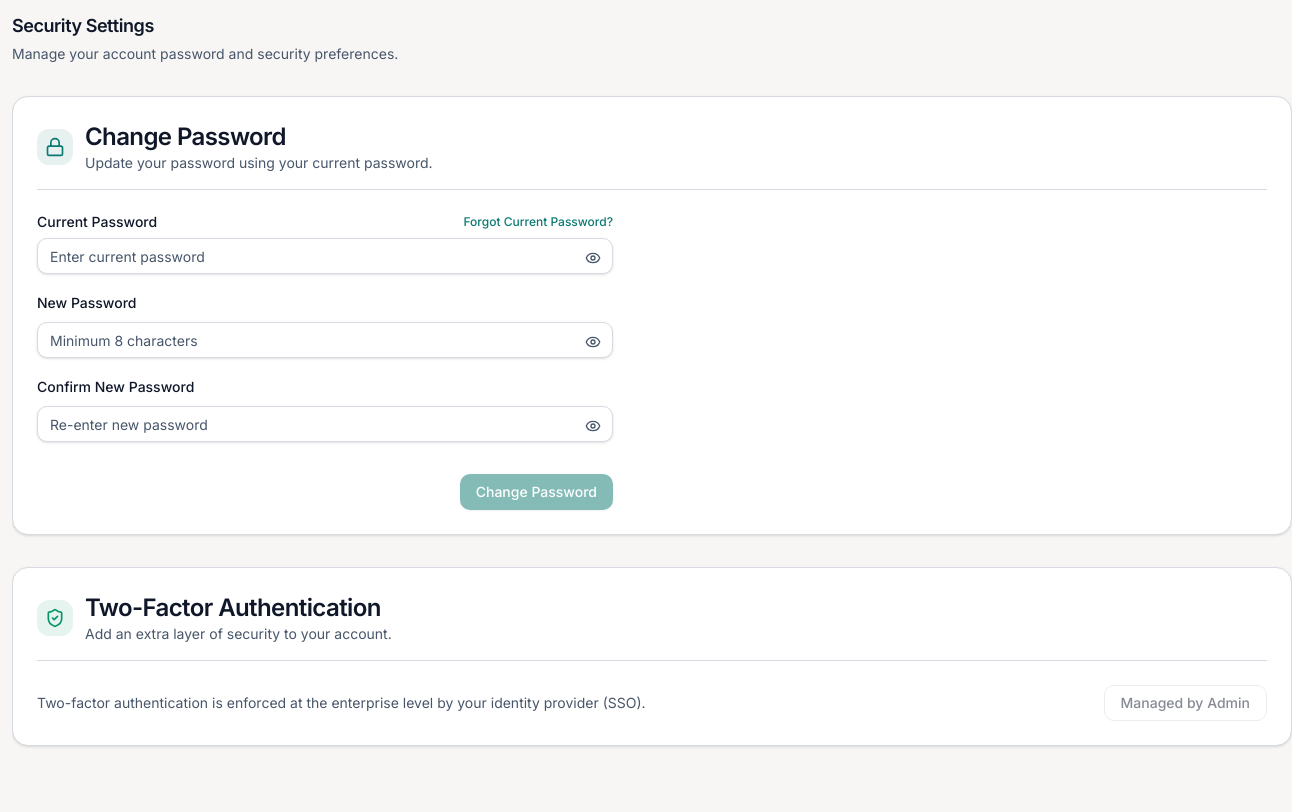
Test case: Security Settings: Dual-Path In-Place Password Change (Phase 4) › Path B — User Does Not Know Current Password › Can switch back from Path B to Path A in place
Click the button "Forgot Current Password?" at (538, 222), box [463,214,613,230]
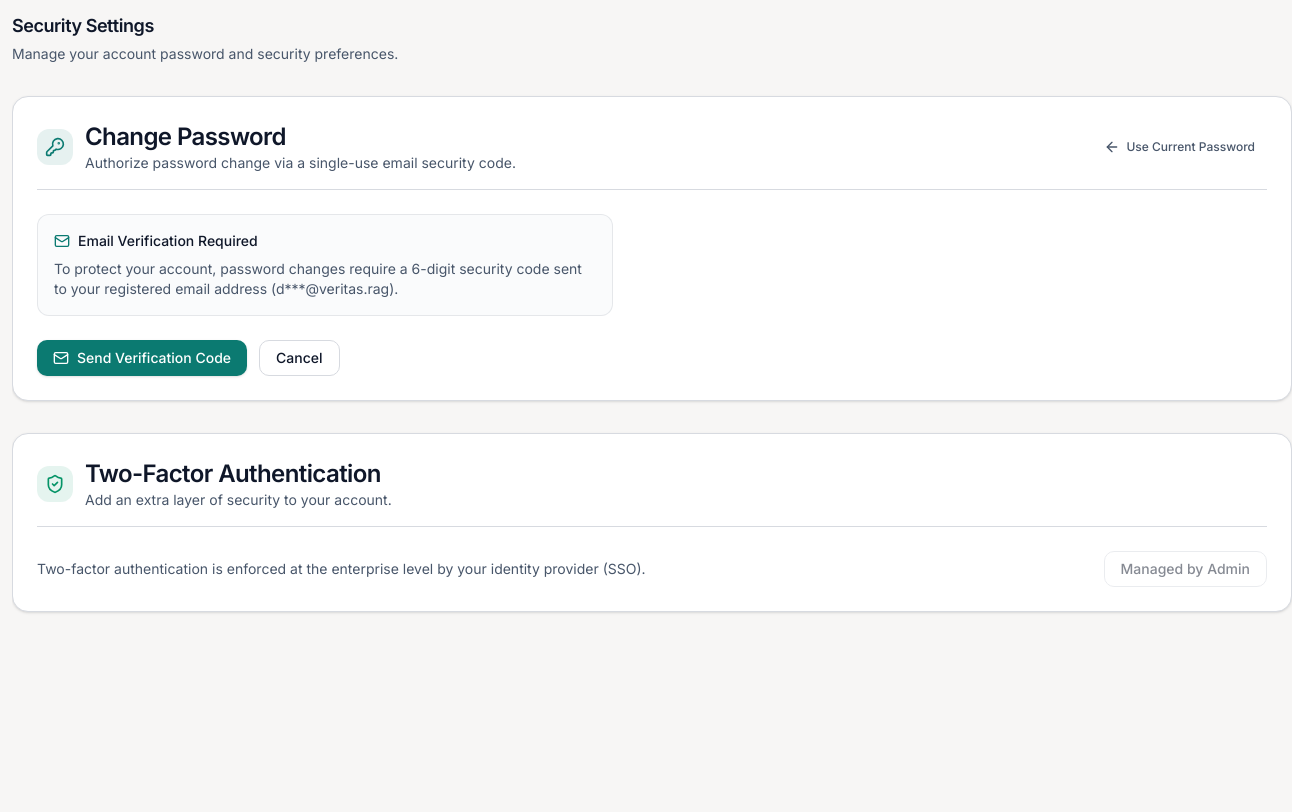
Click the button "Use Current Password" at (1180, 147), box [1092,131,1267,163]
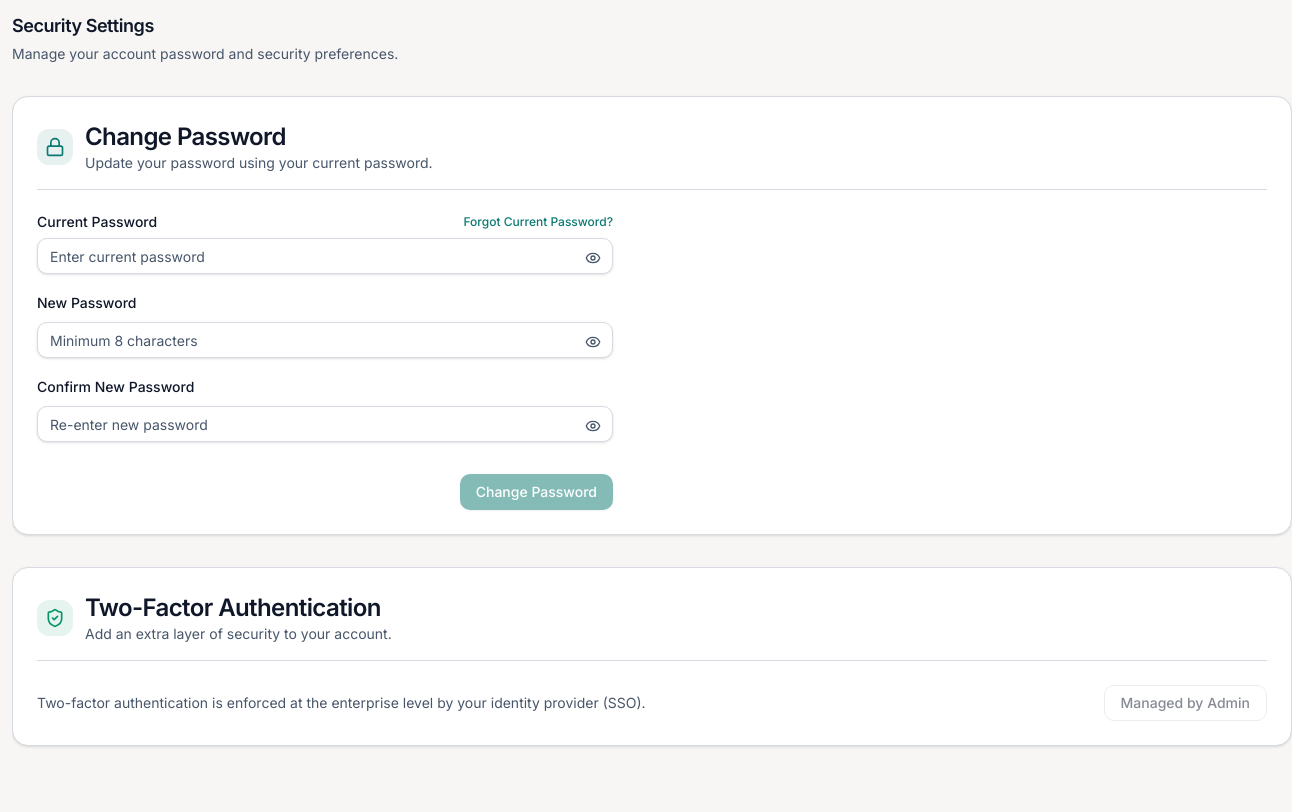
Check: the password field labelled "Current Password" is shown, box [37,238,613,274]
